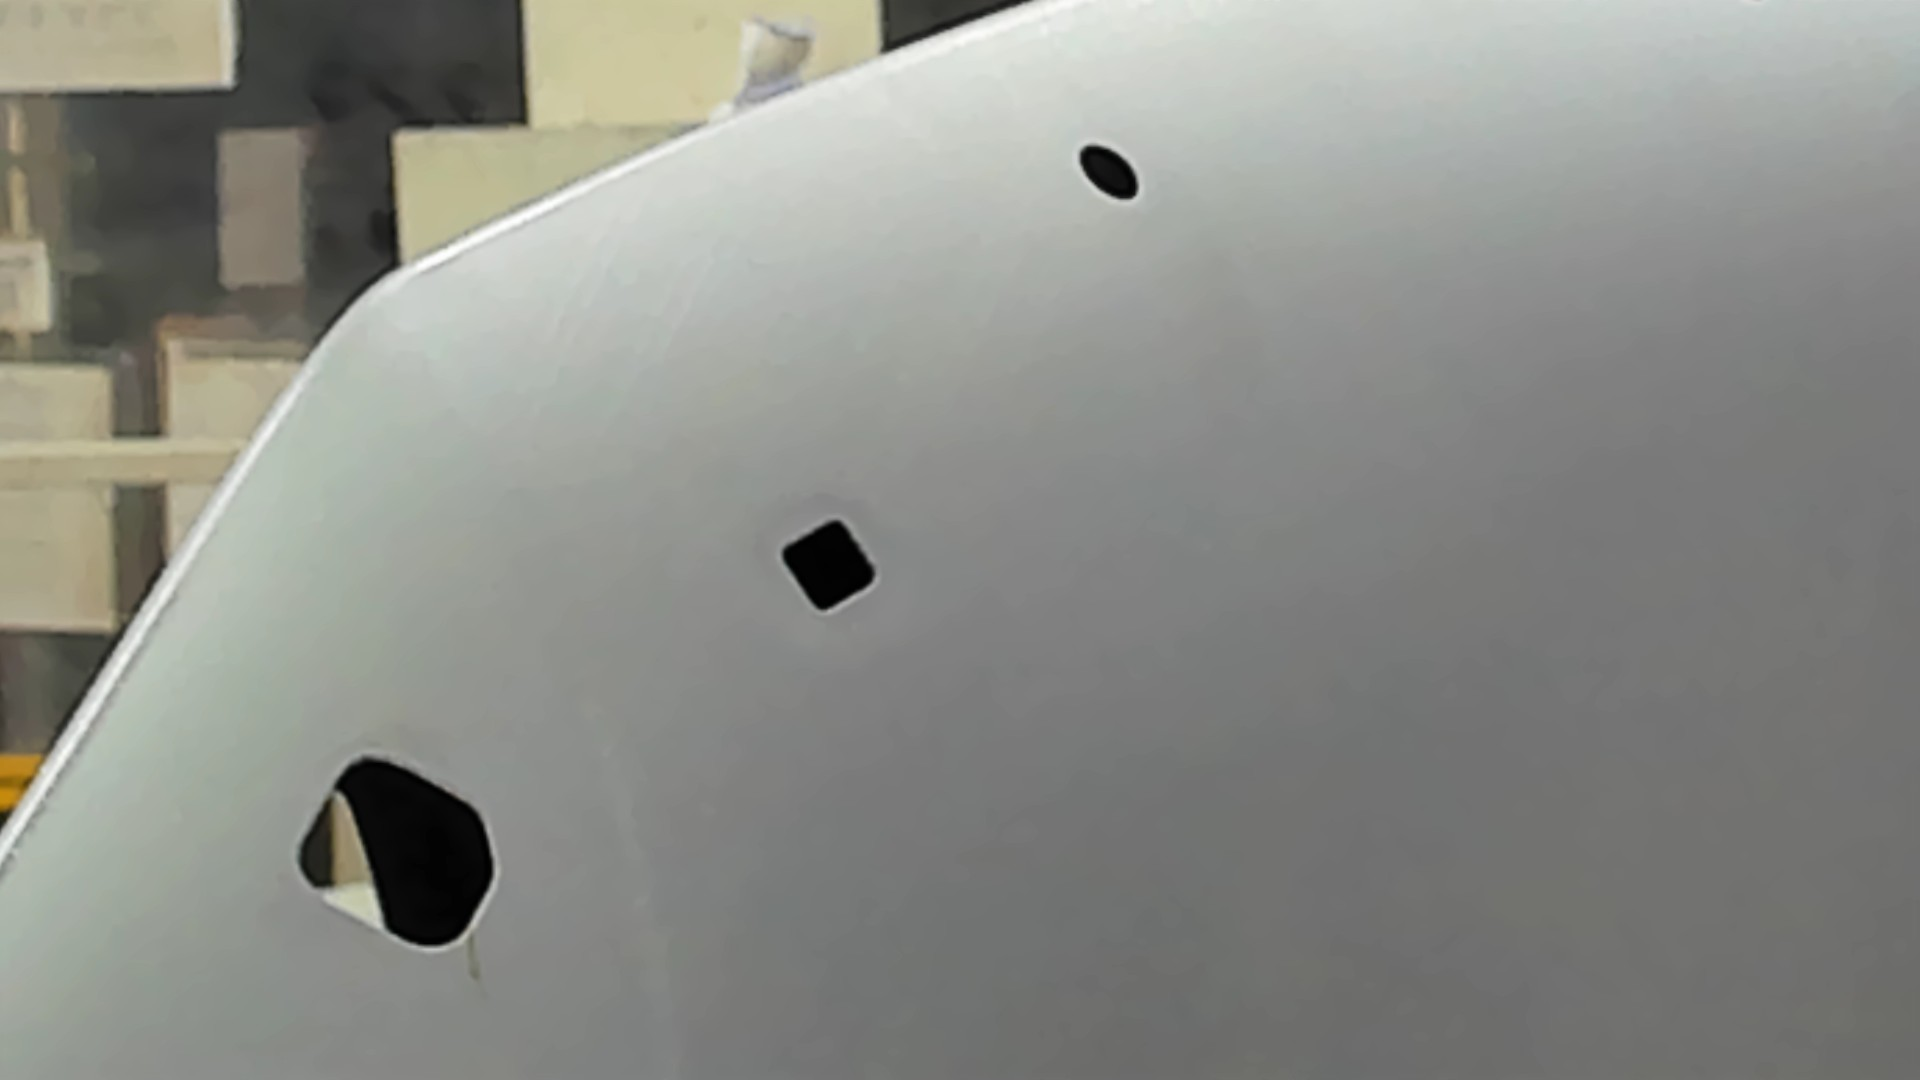chico: (1069, 138, 1145, 203)
grande: (284, 753, 501, 955)
mediano: (773, 514, 880, 618)
